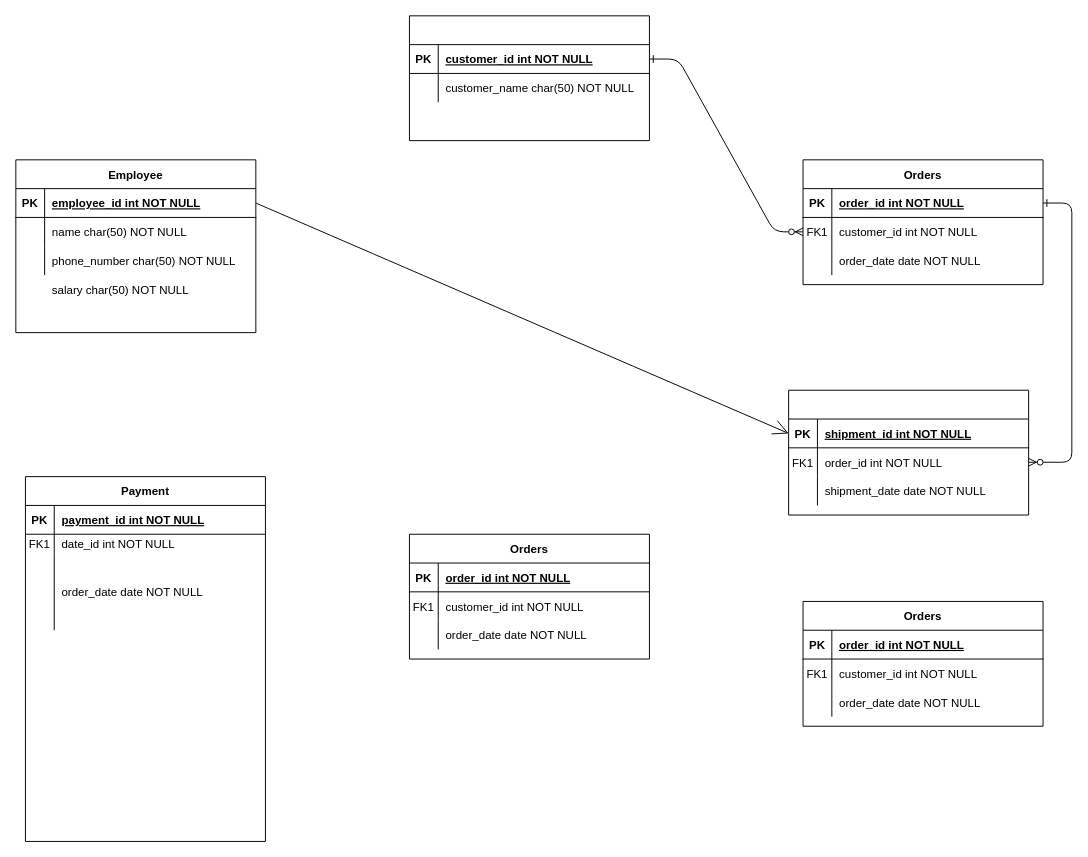
Some shapes in this 1088 by 857 pixel diagram are drawn without their labels. Each missing label, with the box of its shape:
Customers: (408, 15, 649, 141)
Shipments: (788, 389, 1029, 515)
